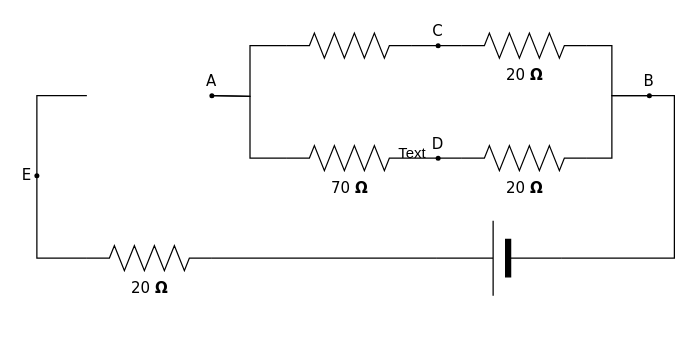
Some shapes in this 698 by 343 pixel diagram are drawn without their labels. Here are the shapes that lost their labels. From the top down, the box of each, then its label:
(286, 32, 412, 58): 40 Ω
(436, 219, 562, 296): 220 V
